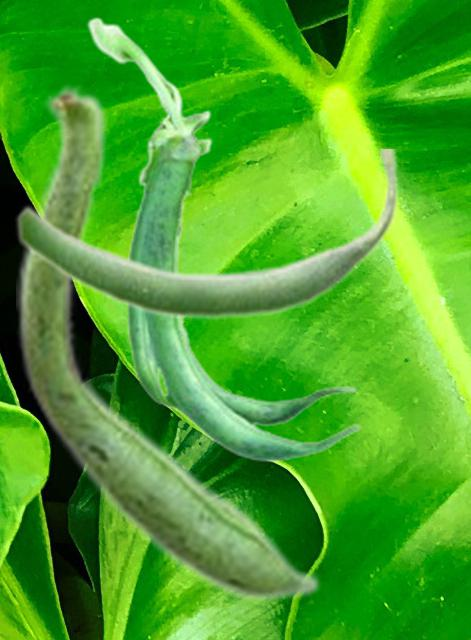french_bean: (16, 81, 321, 603), (86, 16, 360, 462), (15, 149, 399, 321)
